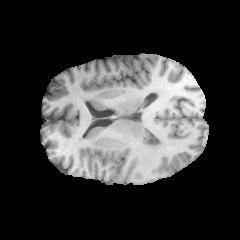glioma: (132, 141, 166, 168)
